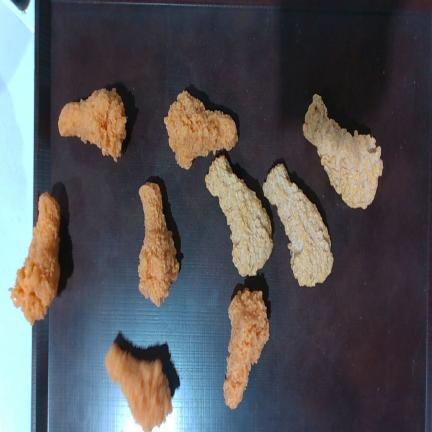chicken: (303, 95, 383, 208), (264, 164, 333, 286), (205, 155, 273, 275), (9, 192, 60, 325), (106, 343, 172, 431), (164, 91, 238, 169), (223, 287, 269, 409), (138, 182, 179, 307), (58, 88, 127, 162)
